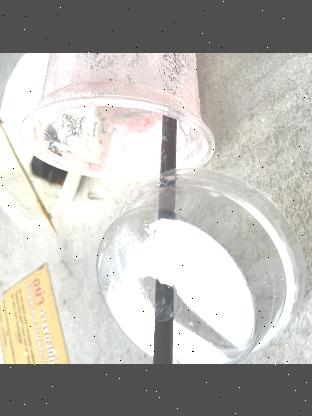Others: (94, 160, 304, 364), (20, 52, 214, 188), (0, 52, 86, 234), (151, 105, 185, 364), (0, 116, 63, 238)
